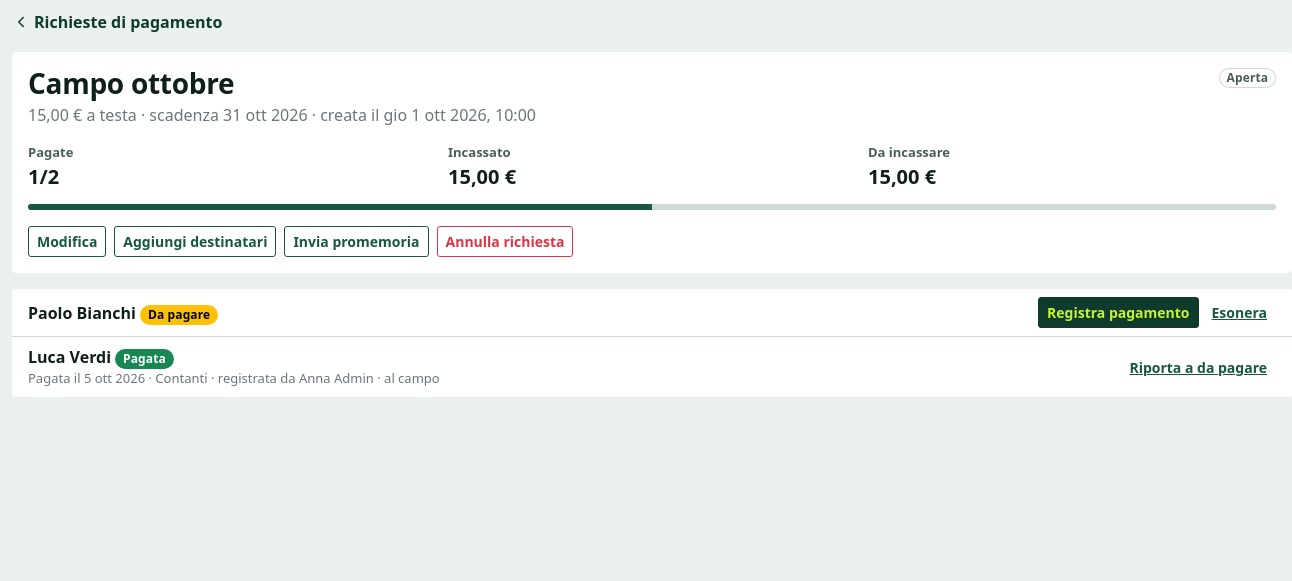
Test: PaymentDetailPage › registra un pagamento con data, metodo e versione della quota
The image size is (1292, 581).
Click the button "Registra pagamento" at (1118, 313), box [1038,297,1199,328]
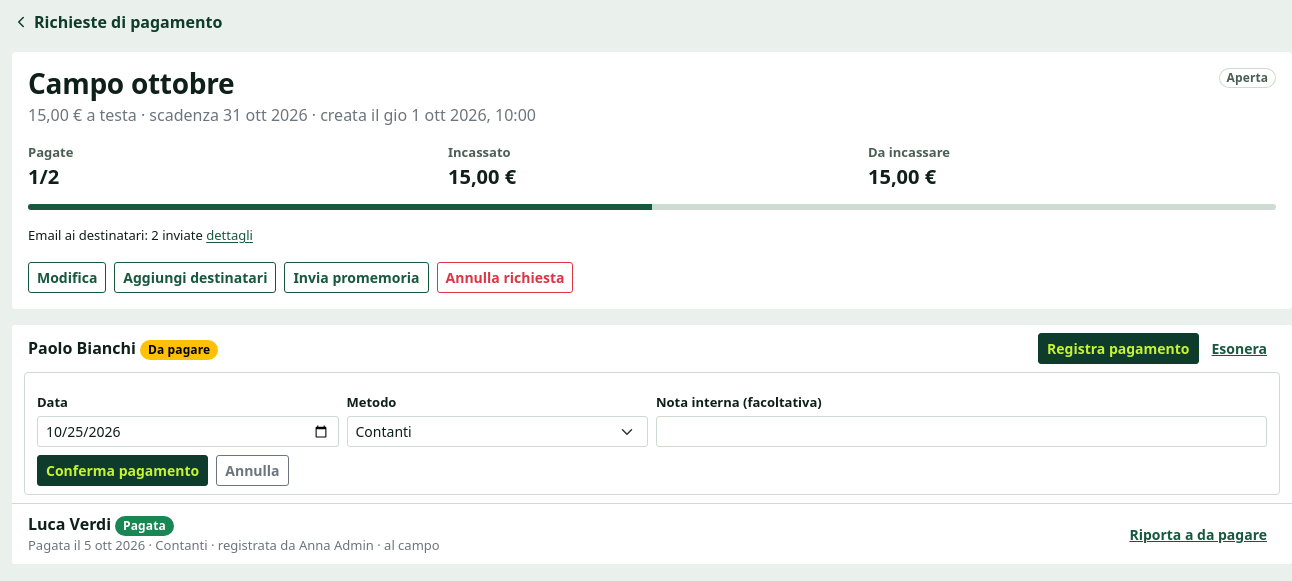
Type "2026-10-10" into the date field labelled "Data" at (188, 432), box [37,416,338,447]
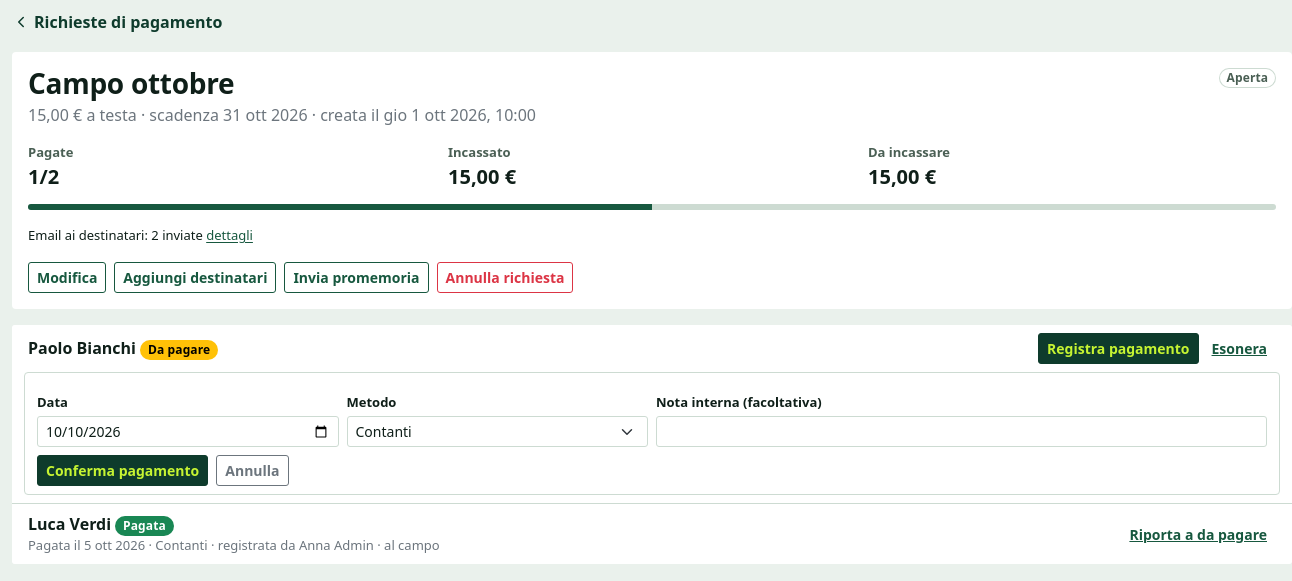
Select "Bonifico" in the dropdown labelled "Metodo" at (497, 432), box [346,416,648,447]
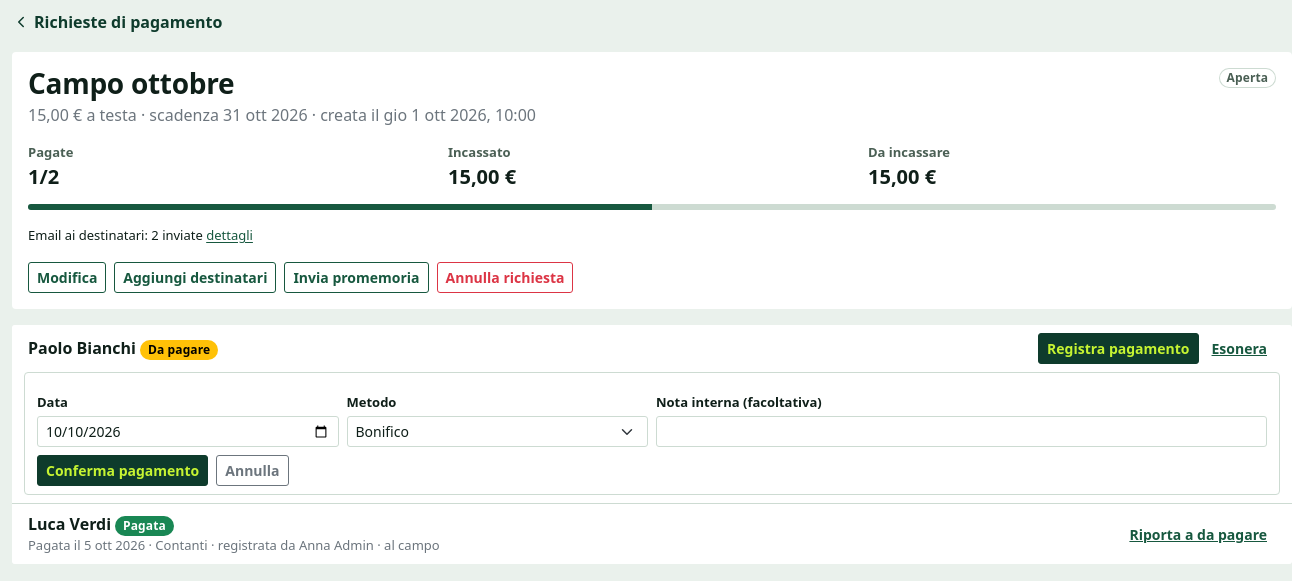
Click the button "Conferma pagamento" at (123, 471), box [37,455,208,486]
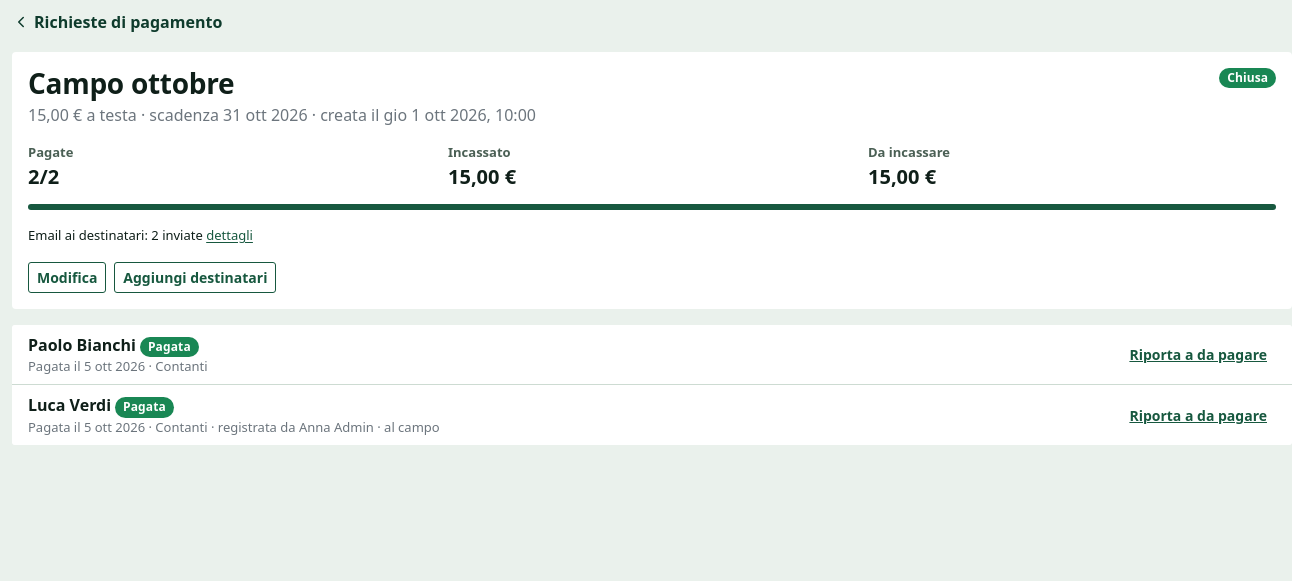
Check: the text "Chiusa" is shown, box [1219,68,1276,88]
